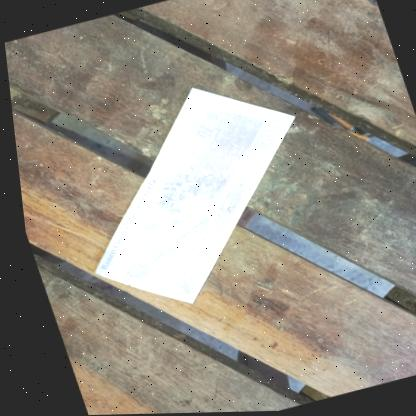two_hundred-back-vef: (36, 65, 345, 326)
